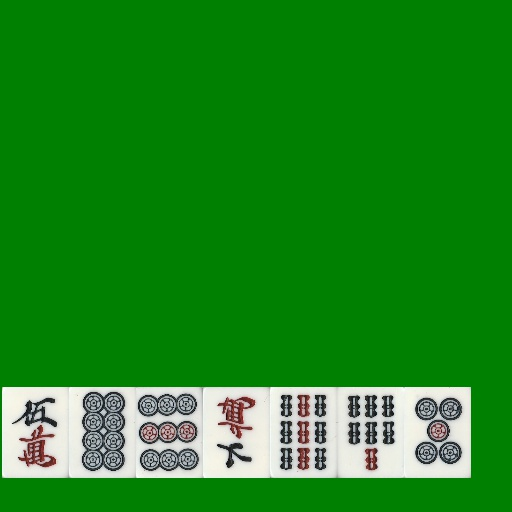5m: (2, 387, 69, 478)
5p: (404, 387, 471, 478)
7m: (203, 387, 270, 478)
7s: (337, 387, 404, 478)
8p: (69, 387, 136, 478)
9p: (136, 387, 203, 478)
9s: (270, 387, 337, 478)
